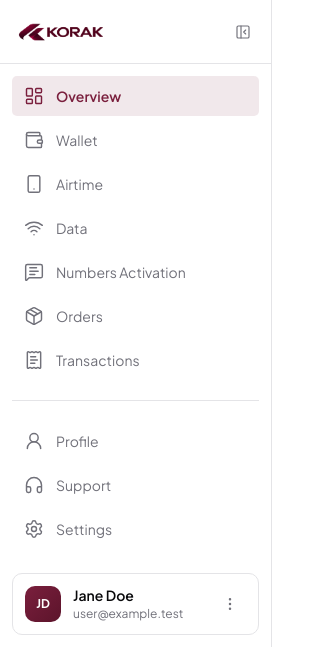
Test: Sidebar Component (F5.1 & F5.2) › kebab button opens the menu containing 'Log out' and clicking it calls onLogout
Later steps or results of the test are not shown.
Click the button named "user options menu" at [230, 604], box x1=214 y1=588 x2=246 y2=620
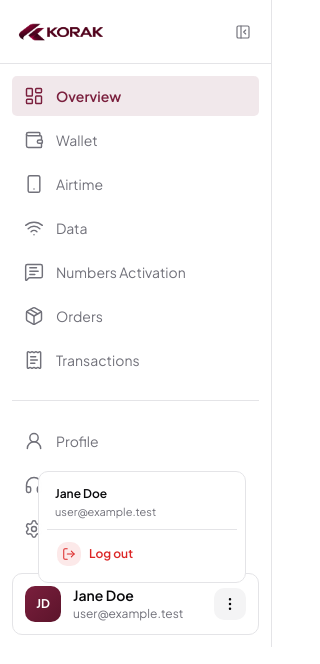
Expected: the menu item "Log out" is shown, x1=57 y1=542 x2=133 y2=566
